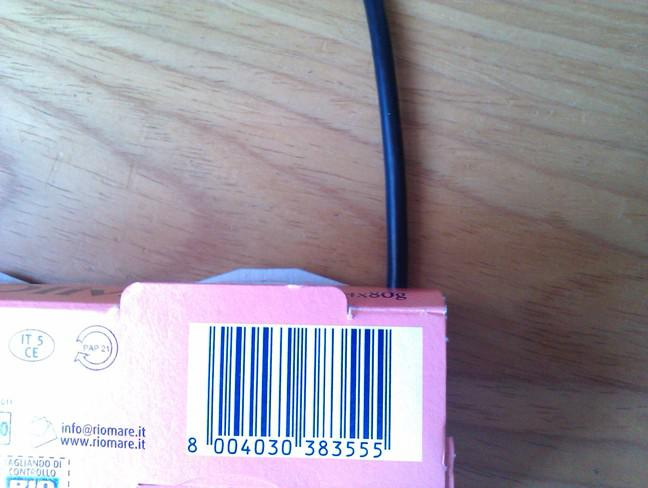Barkod: (186, 322, 419, 459)
